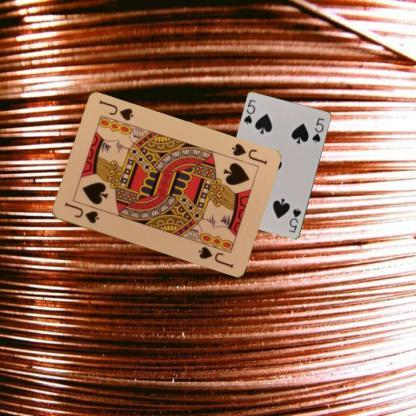5s: (286, 206, 302, 235), (241, 97, 257, 126)
Js: (228, 141, 269, 166), (61, 199, 101, 224)
